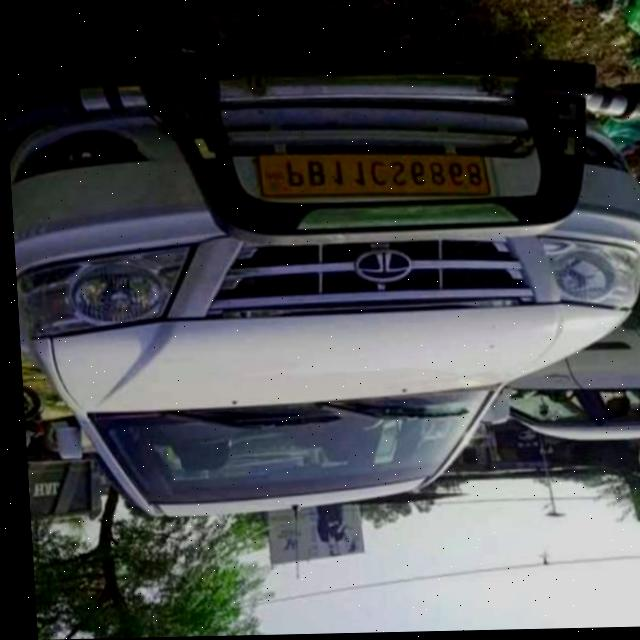plate: (250, 146, 496, 218)
